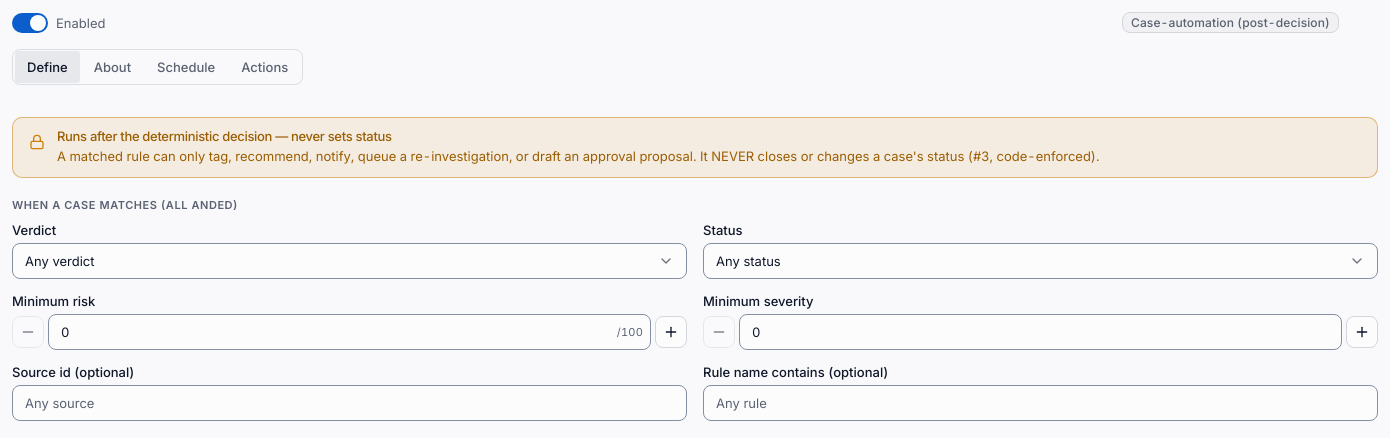
RuleEditor — case-automation About identity (#25) › an EXISTING case-automation rule shows its id READ-ONLY, not a discarded Name input
Click the tab "About": (112, 67) [82, 51, 143, 83]
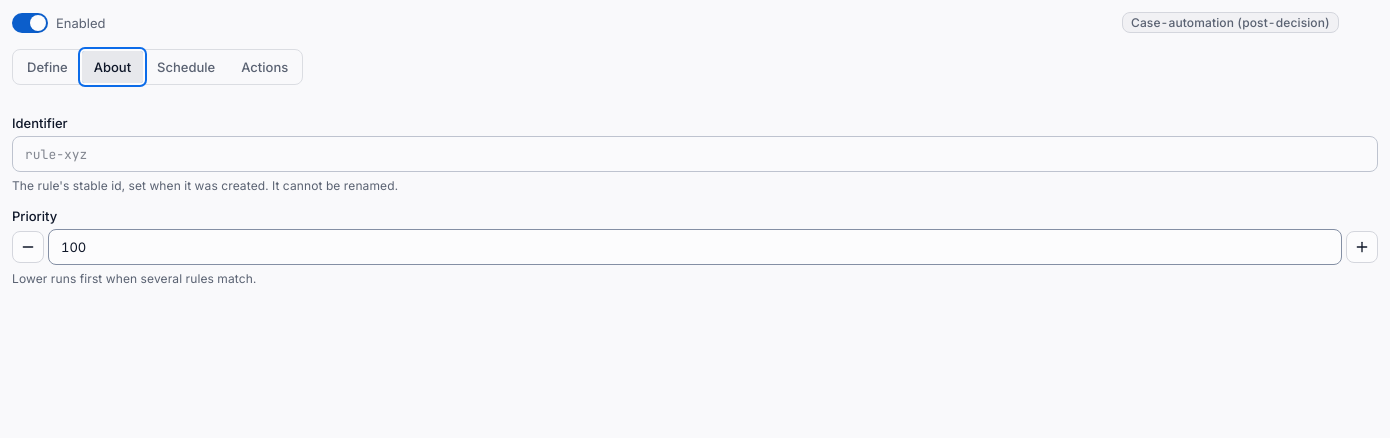
Check: the field showing "rule-xyz" is disabled, box [12, 136, 1378, 172]
Check: the text "Identifier" is shown, box [12, 117, 68, 130]
